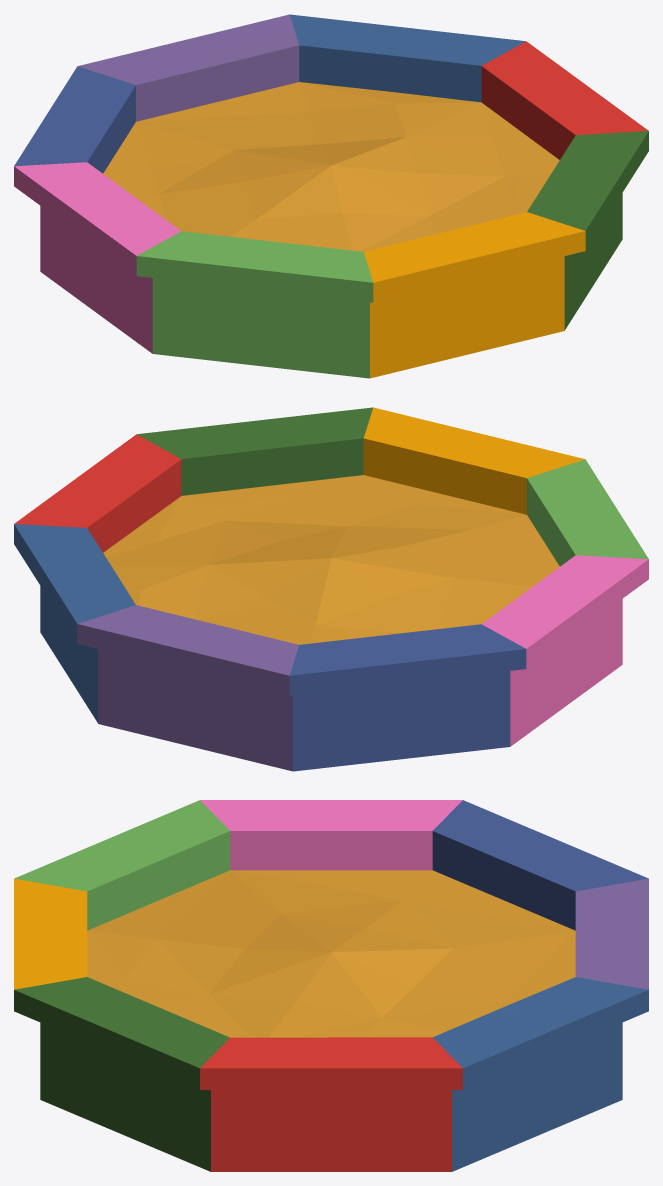
The model's file is SM_Props_Playground_02.fbx.
3 renders of one model, top to bottom at view 1: azimuth 30°, elevation 25°; view 2: azimuth 150°, elevation 25°; view 3: azimuth 270°, elevation 25°, orthographic. The views are drawn at different scales.
Parts seen in each view (by area): view 1: SM_Props_Playground_02; view 2: SM_Props_Playground_02; view 3: SM_Props_Playground_02.
Boxes of the visible parts, x1,y1,x2,y2 form: SM_Props_Playground_02: [14, 14, 648, 378]; SM_Props_Playground_02: [14, 407, 648, 771]; SM_Props_Playground_02: [14, 800, 648, 1171].
Size of the model in its own units: 1.34 by 0.2678 by 1.34.
